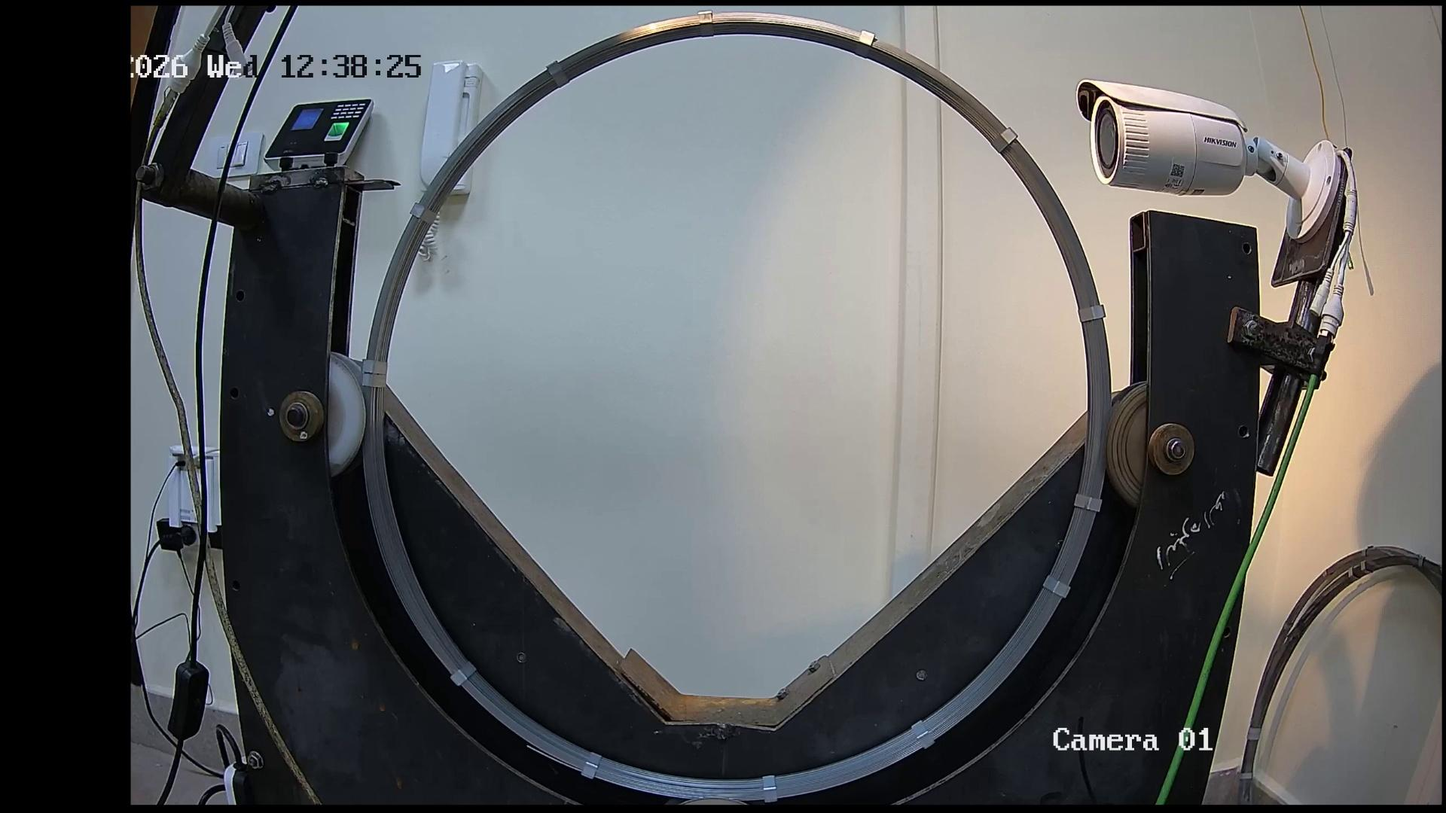clamp: (570, 725, 618, 789), (896, 715, 956, 758), (531, 56, 593, 94), (842, 17, 892, 64), (985, 111, 1026, 164), (346, 343, 407, 376), (1032, 570, 1081, 608), (1062, 297, 1118, 329), (1066, 484, 1118, 518), (747, 768, 787, 811), (441, 653, 482, 694), (394, 203, 452, 231), (689, 8, 727, 47), (354, 369, 395, 397)
